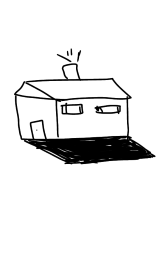door: (25, 114, 51, 141)
open_window: (91, 102, 124, 119), (58, 102, 86, 118)
roof: (6, 73, 139, 102)
shadow: (21, 131, 156, 170)
smoking_chimney: (52, 43, 95, 85)
wall: (55, 94, 133, 142)
